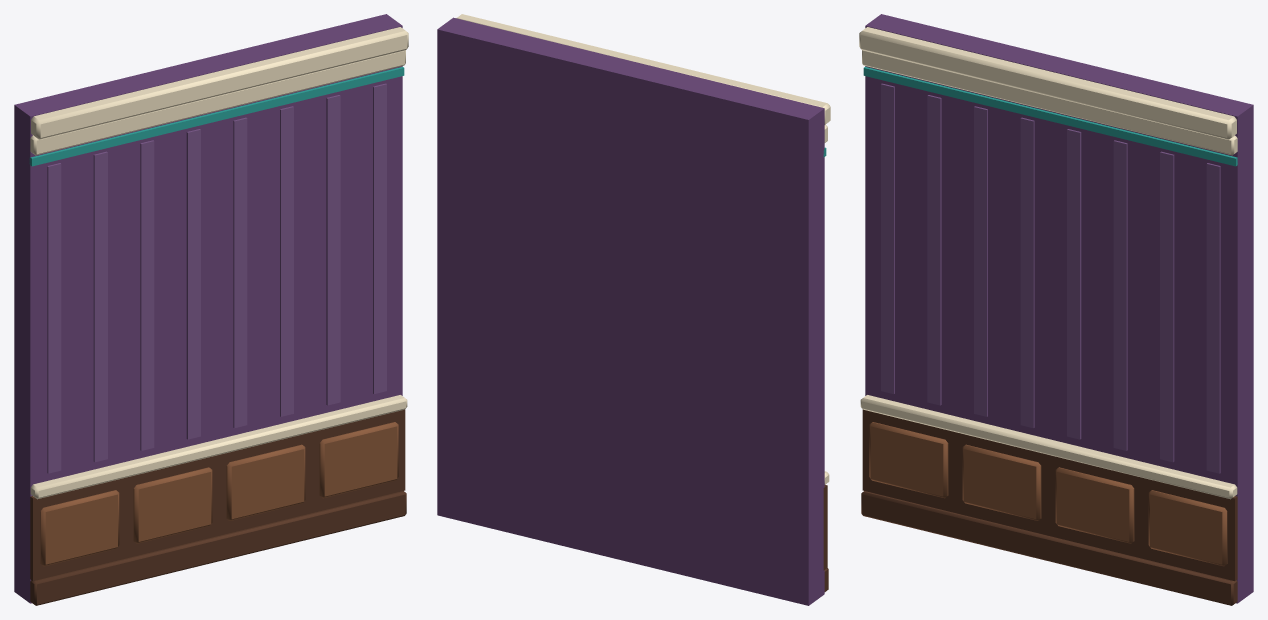
File: wall_4m.glb
The picture shows the model from 3 angles, left to right: view 1: azimuth 30°, elevation 25°; view 2: azimuth 150°, elevation 25°; view 3: azimuth 330°, elevation 25°; orthographic projection.
Visible parts, largest first — view 1: wall_4m; view 2: wall_4m; view 3: wall_4m.
Part boxes in pixels (bbox=[...]): wall_4m: bbox=[14, 14, 408, 605]; wall_4m: bbox=[437, 14, 830, 605]; wall_4m: bbox=[859, 14, 1253, 605].
Bounding box in the file's own units: 4 × 5 × 0.44.
